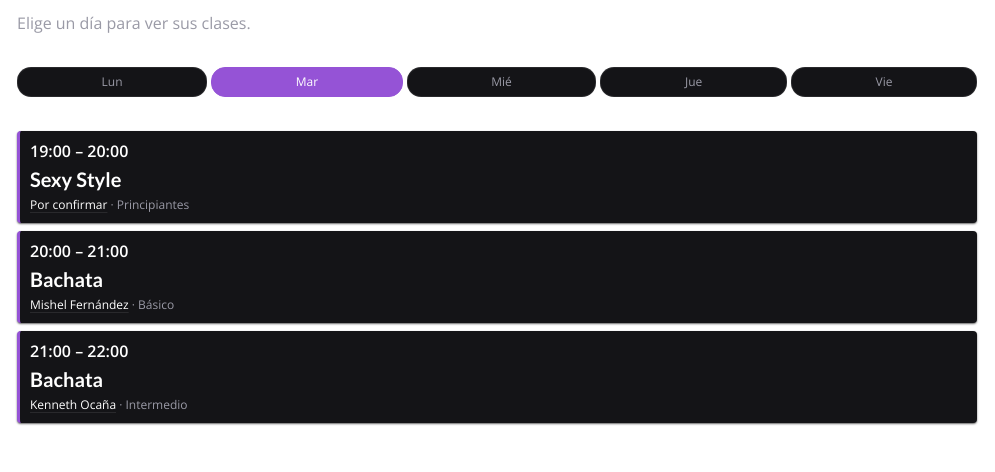
Scenario: Schedules on a narrow screen › swaps the list when another day is chosen
What coordinates should you click on to do the following:
click the button named "Viernes"
I would click on:
 (884, 82)
Its box is [791,67,977,97].
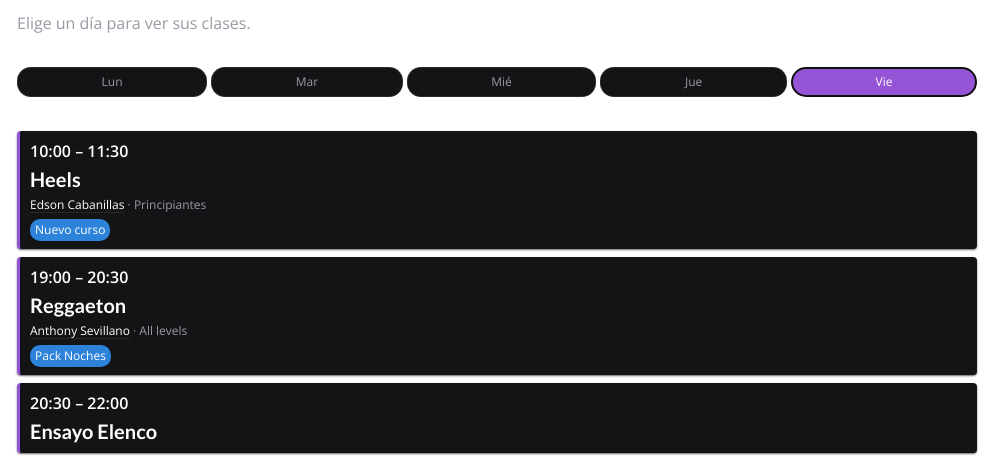
Expected: the heading "Reggaeton" is shown, [30,293,126,317]
Expected: the heading "Sexy Style" is gone
